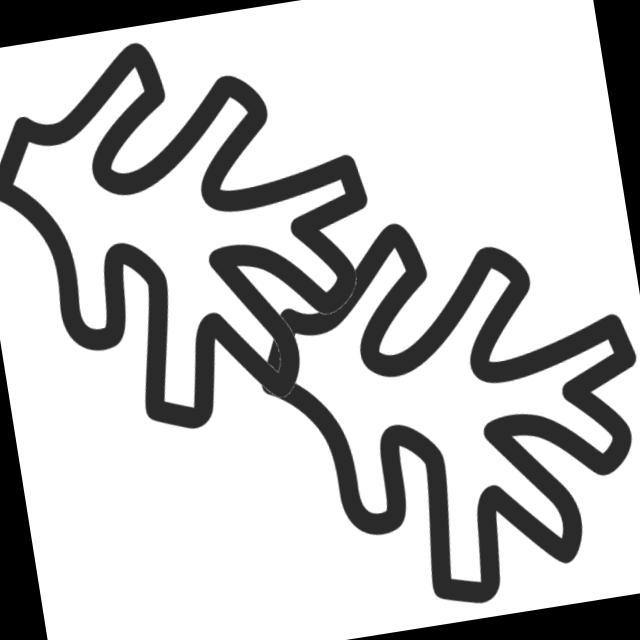coral: (232, 174, 640, 638), (1, 1, 409, 455)
